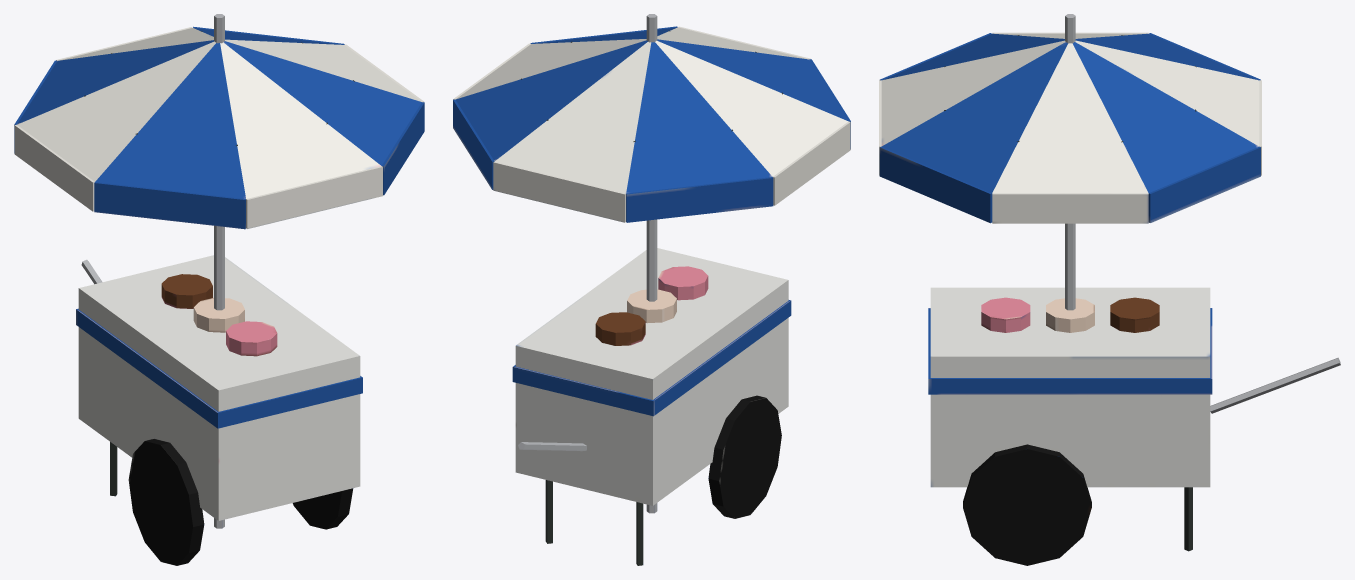
Rendered from vozik_zmrzlina_43f0baaf.glb.
3 views of the same model, side by side, from view 1: azimuth 30°, elevation 25°; view 2: azimuth 150°, elevation 25°; view 3: azimuth 270°, elevation 25° (orthographic). The views are drawn at different scales.
Parts seen in each view (by area): view 1: dum; view 2: dum; view 3: dum.
Boxes of the visible parts, x1,y1,x2,y2 form: dum: (14, 14, 424, 565); dum: (453, 14, 850, 565); dum: (879, 14, 1340, 565).
Size of the model in its own units: 1.77 by 2.61 by 2.14.
Materials: 1 (1 with a texture image).
